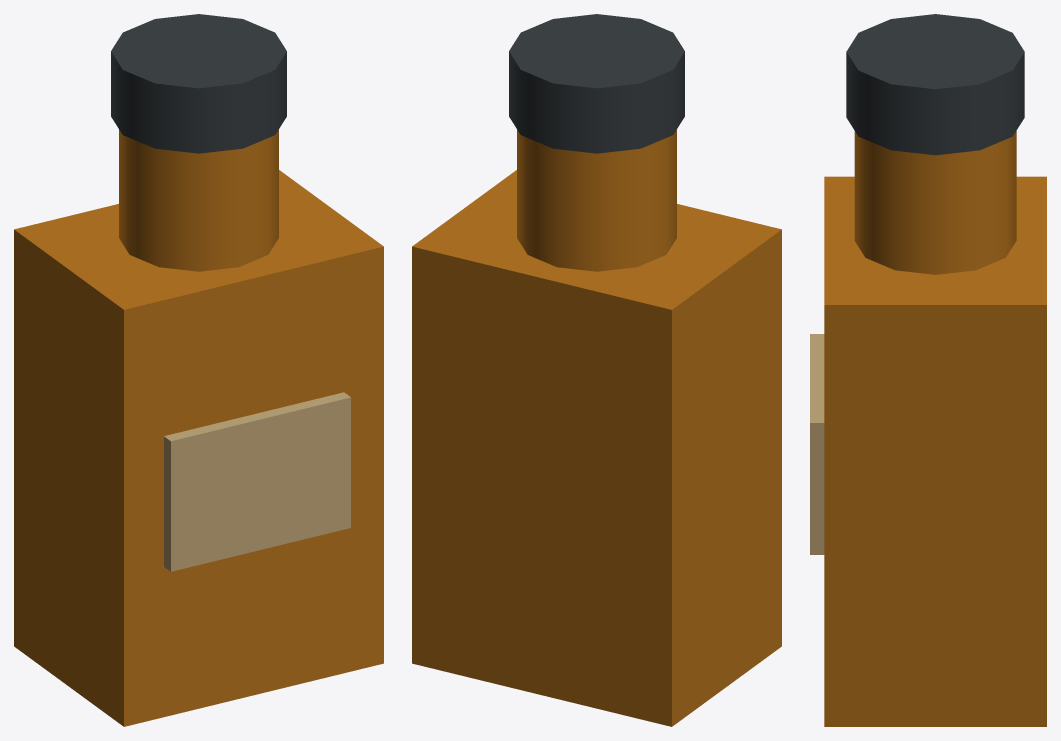
The model's file is lamp_oil_bottle.glb.
3 views of the same model, side by side, from view 1: azimuth 30°, elevation 25°; view 2: azimuth 150°, elevation 25°; view 3: azimuth 270°, elevation 25° (orthographic).
Parts seen in each view (by area): view 1: lamp_oil_bottle; view 2: lamp_oil_bottle; view 3: lamp_oil_bottle.
Boxes of the visible parts, x1,y1,x2,y2 form: lamp_oil_bottle: (14, 14, 383, 726); lamp_oil_bottle: (412, 14, 781, 726); lamp_oil_bottle: (810, 14, 1046, 726).
Size of the model in its own units: 0.075 by 0.1665 by 0.0585.
